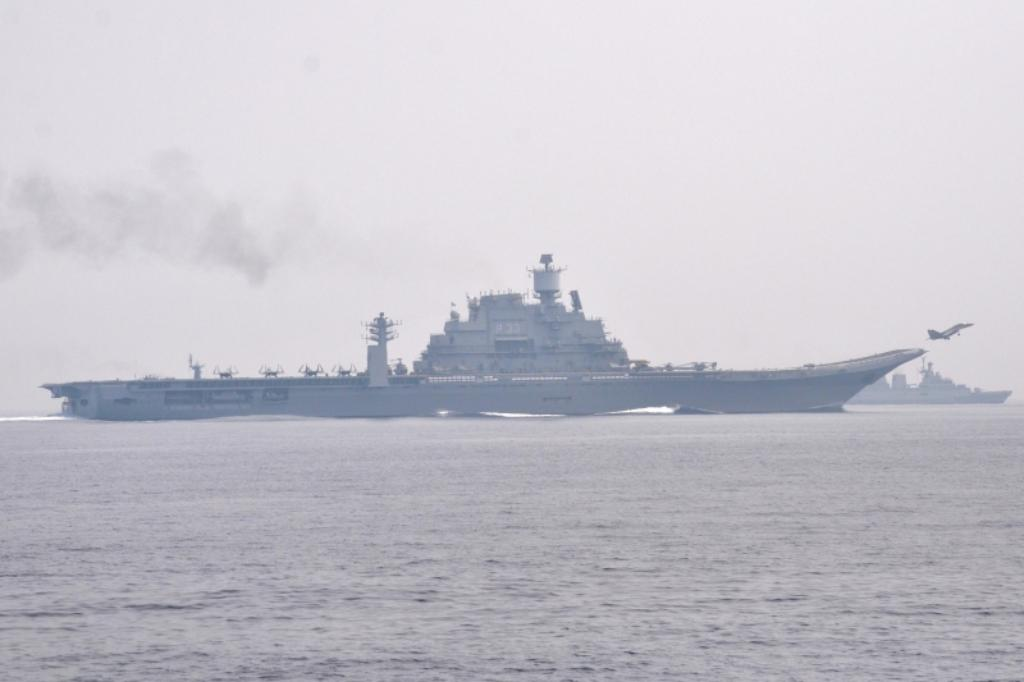Warship: (32, 238, 936, 430), (860, 356, 1018, 416)
